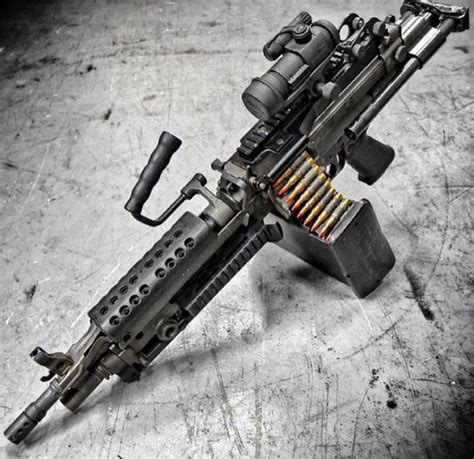gun: (3, 1, 466, 443)
